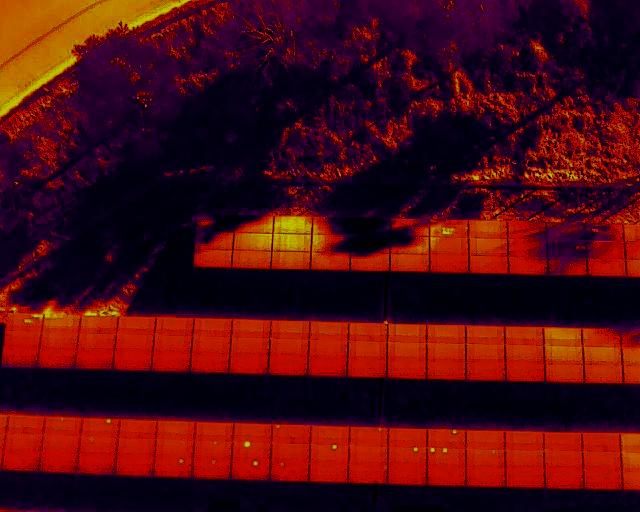Cell: (269, 458, 308, 481), (349, 461, 388, 484), (192, 458, 231, 478), (154, 457, 193, 477), (231, 458, 269, 478), (272, 424, 311, 442), (310, 443, 348, 460), (428, 429, 466, 446), (194, 441, 232, 458), (81, 418, 118, 435), (232, 441, 271, 457), (349, 427, 388, 443), (388, 446, 426, 462), (45, 418, 82, 434)
Cell-Multi: (427, 446, 466, 462), (6, 314, 42, 331)
No-Anomaly: (388, 462, 427, 484), (428, 463, 466, 485), (545, 468, 584, 489), (116, 454, 154, 475), (310, 461, 348, 482), (151, 352, 190, 372), (2, 450, 41, 470), (584, 469, 623, 489), (466, 466, 505, 486), (506, 466, 545, 486), (115, 349, 152, 370), (41, 451, 78, 472), (191, 352, 229, 372), (388, 359, 426, 379), (0, 348, 39, 367), (76, 349, 115, 368), (466, 361, 505, 380), (269, 357, 308, 376), (426, 360, 465, 379), (308, 357, 347, 376), (156, 421, 195, 440), (426, 325, 465, 344), (78, 452, 115, 472), (195, 421, 233, 440), (194, 249, 232, 268), (390, 254, 430, 272), (311, 252, 351, 270), (508, 257, 548, 275), (38, 348, 75, 367), (465, 430, 504, 448), (348, 359, 387, 377), (388, 428, 427, 446), (584, 364, 623, 382), (232, 251, 271, 269), (430, 254, 469, 272), (469, 255, 508, 273), (270, 321, 309, 339), (387, 324, 426, 342), (349, 324, 388, 342), (310, 322, 349, 340), (544, 329, 583, 347), (504, 327, 543, 345), (233, 233, 272, 251), (271, 252, 312, 269), (505, 431, 543, 449), (545, 346, 583, 364), (6, 415, 44, 433), (582, 433, 620, 451), (544, 432, 582, 450), (192, 337, 230, 355), (117, 317, 155, 335), (155, 318, 193, 336), (193, 319, 231, 337), (466, 326, 504, 344), (506, 363, 546, 380), (228, 355, 268, 372), (466, 449, 506, 466), (272, 217, 312, 234), (272, 234, 312, 251), (118, 419, 155, 437), (79, 316, 116, 334), (232, 319, 269, 337), (506, 345, 545, 362), (583, 347, 622, 364), (232, 423, 271, 440), (544, 451, 583, 468), (583, 452, 622, 469), (270, 340, 309, 357), (546, 364, 584, 381), (349, 443, 387, 460), (349, 342, 387, 359), (311, 426, 349, 443), (156, 441, 194, 458), (430, 237, 468, 254), (231, 338, 269, 355), (469, 221, 507, 238), (587, 260, 627, 276), (470, 238, 507, 255), (427, 343, 466, 359), (309, 341, 348, 357), (387, 343, 426, 359), (4, 434, 43, 450), (505, 450, 544, 466), (2, 332, 41, 348), (42, 435, 80, 451), (80, 436, 118, 452), (466, 345, 505, 360), (153, 336, 192, 351), (41, 332, 77, 348), (118, 438, 156, 453), (271, 443, 309, 457), (78, 334, 115, 348), (116, 335, 153, 349)
Shadowing: (547, 239, 586, 259), (390, 236, 430, 254), (311, 234, 351, 252), (507, 238, 547, 256), (581, 328, 621, 346), (586, 241, 625, 259), (196, 213, 236, 230), (351, 253, 390, 270), (548, 258, 587, 275), (352, 218, 391, 235), (194, 232, 233, 249), (586, 223, 625, 240), (352, 235, 390, 252), (391, 219, 429, 236), (236, 216, 274, 233), (312, 218, 351, 234), (546, 223, 585, 239), (508, 222, 547, 237)
Unclassified: (430, 220, 468, 237), (43, 315, 79, 332)
